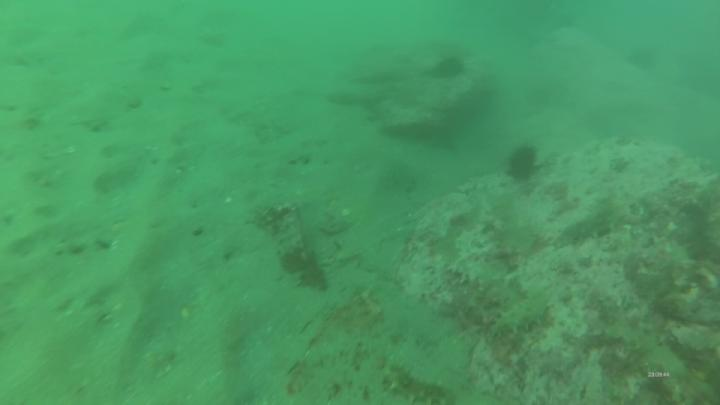echinus: (510, 143, 538, 181), (434, 56, 469, 81)
holothurian: (447, 253, 526, 308), (383, 361, 459, 405), (555, 204, 627, 248), (489, 299, 558, 338)
